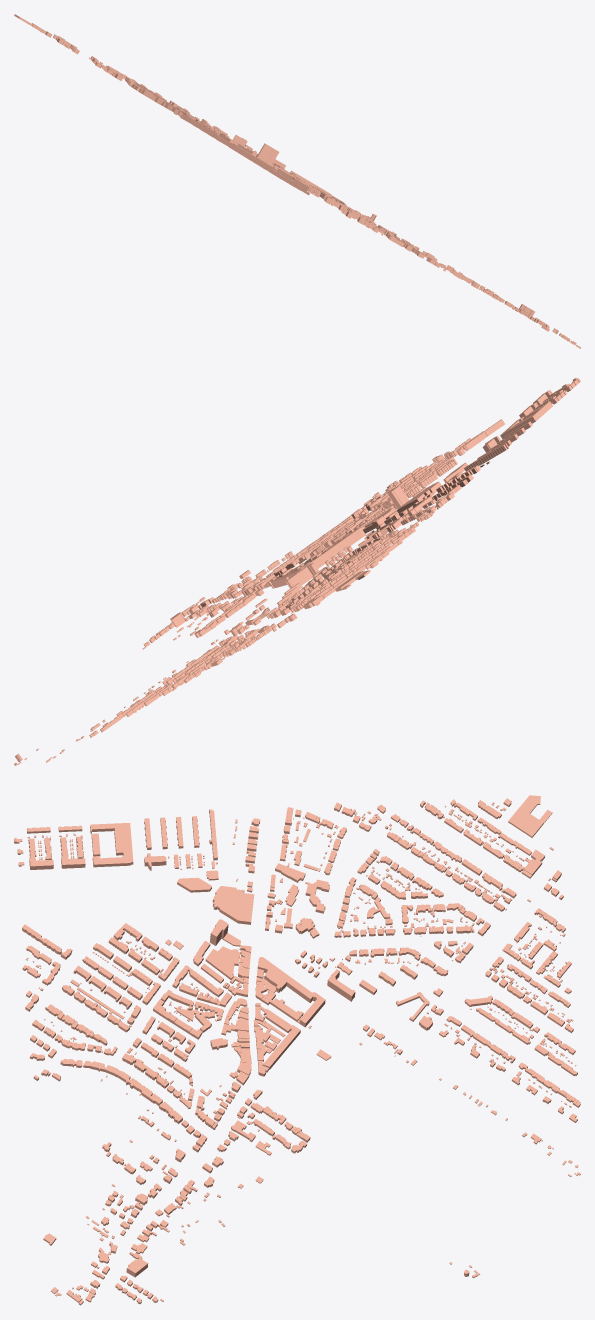
3 views of the same model, one above another, from view 1: azimuth 30°, elevation 25°; view 2: azimuth 150°, elevation 25°; view 3: azimuth 270°, elevation 25° (orthographic). The views are drawn at different scales.
Size of the model in its own units: 1048 by 757 by 1248.
